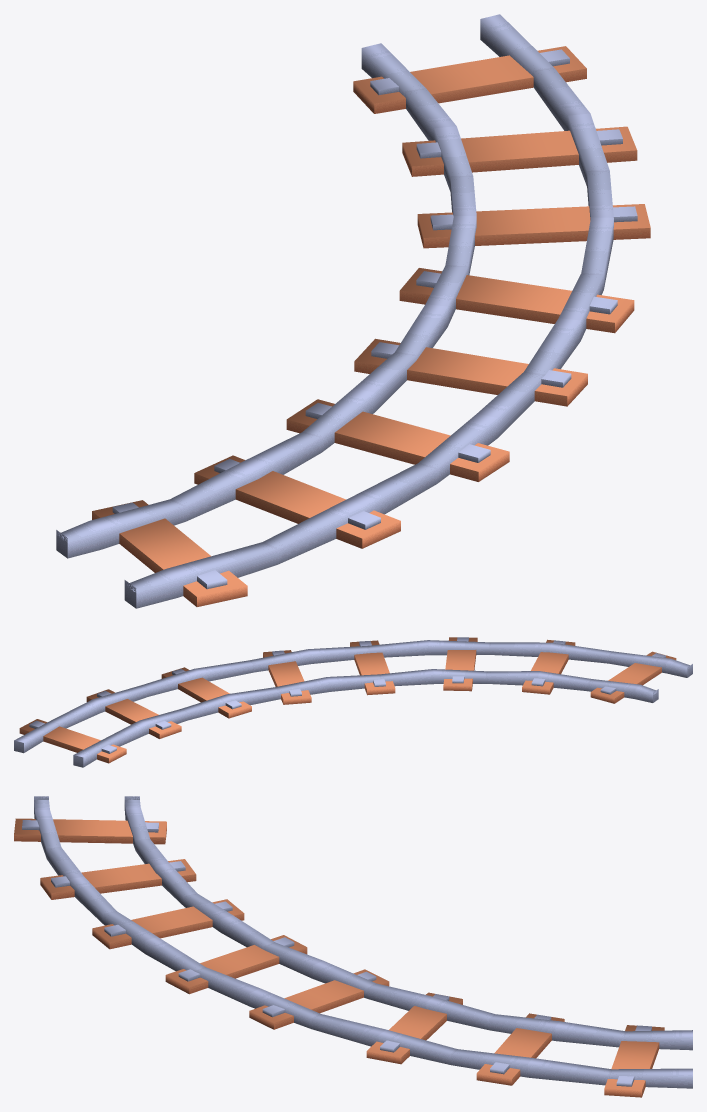
Rendered from railroad-damaged-corner-large.glb.
3 renders of one model, top to bottom at view 1: azimuth 30°, elevation 25°; view 2: azimuth 150°, elevation 25°; view 3: azimuth 270°, elevation 25°, orthographic. The views are drawn at different scales.
Visible parts, largest first — view 1: railroad-damaged-corner-large; view 2: railroad-damaged-corner-large; view 3: railroad-damaged-corner-large.
Boxes of the visible parts, box(x1,y1,x2,y2) form: railroad-damaged-corner-large: box(56, 14, 650, 608); railroad-damaged-corner-large: box(14, 637, 692, 767); railroad-damaged-corner-large: box(14, 796, 692, 1097).
Size of the model in its own units: 4.49 by 0.1 by 4.48.
Materials: 1 (1 with a texture image).
